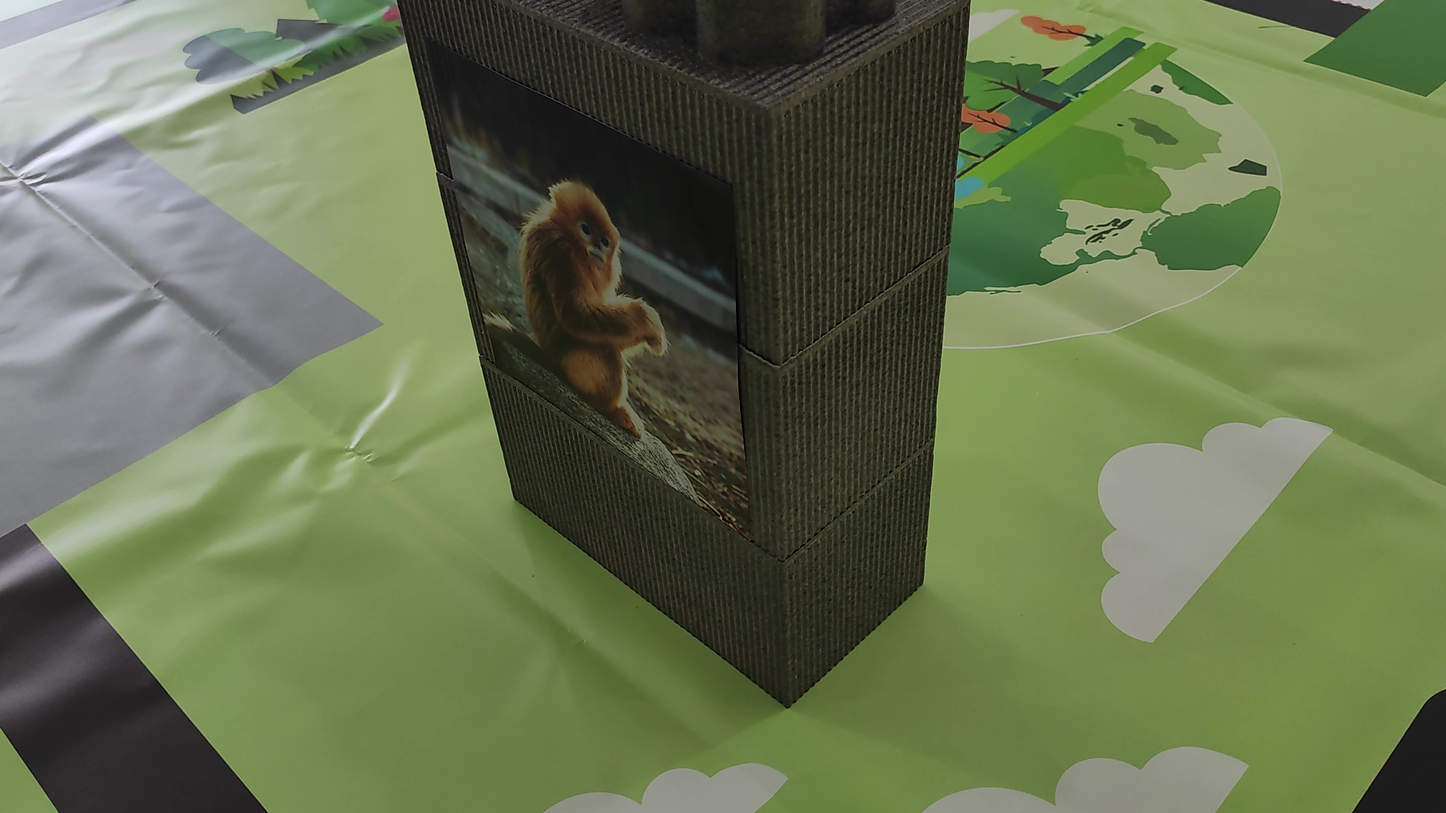monkey: (473, 138, 706, 442)
